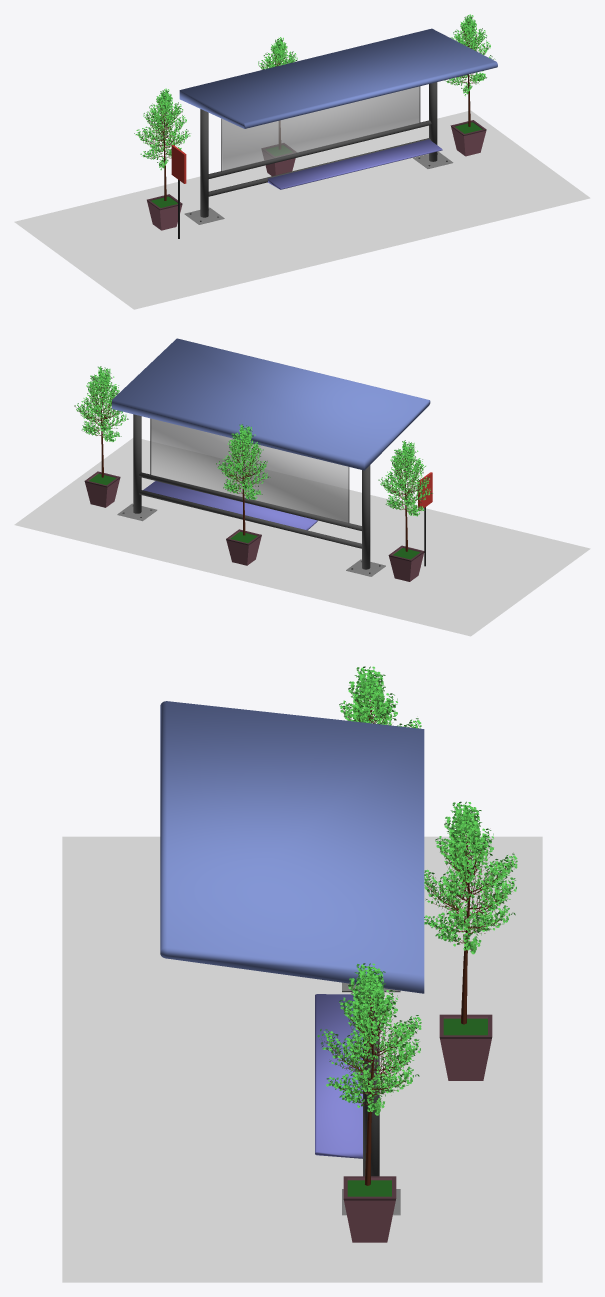
File: stationBus.fbx
The picture shows the model from 3 angles, top to bottom: view 1: azimuth 30°, elevation 25°; view 2: azimuth 150°, elevation 25°; view 3: azimuth 270°, elevation 25°; orthographic projection. The views are drawn at different scales.
Visible parts, largest first — view 1: Plane, Cube.002, Cube.004, Cylinder.012, Cube.003, leaves, leaves.001, Cube.006, Cube.005, Cube.001, Cube.007, tree (+2 smaller); view 2: Plane, Cube.002, Cube.004, Cylinder.012, leaves.002, Cube.003, leaves, leaves.001, Cube.006, Cube.007, Cube.005, Cube.001 (+3 smaller); view 3: Plane, Cube.002, leaves.001, leaves.002, Cube.003, Cube.007, Cube.006, tree.002, tree.001, leaves, Cylinder.012.
Boxes of the visible parts, x1,y1,x2,y2 form: Plane: (14, 110, 590, 309); Cube.002: (179, 28, 497, 128); Cube.004: (222, 86, 419, 171); Cylinder.012: (200, 82, 437, 217); Cube.003: (267, 139, 442, 189); leaves: (134, 88, 190, 170); leaves.001: (444, 14, 495, 96); Cube.006: (450, 120, 486, 156); Cube.005: (147, 194, 182, 230); Cube.001: (184, 151, 453, 224); Cube.007: (262, 143, 296, 176); tree: (138, 101, 183, 200); Plane: (14, 438, 590, 636); Cube.002: (112, 338, 430, 470); Cube.004: (151, 418, 348, 522); Cylinder.012: (133, 414, 370, 569); leaves.002: (216, 424, 270, 499); Cube.003: (143, 481, 317, 530); leaves: (378, 440, 432, 516); leaves.001: (74, 366, 128, 441); Cube.006: (84, 471, 120, 507); Cube.007: (226, 529, 261, 565); Cube.005: (388, 545, 424, 581); Cube.001: (117, 503, 385, 576); Plane: (62, 836, 542, 1282); Cube.002: (160, 701, 424, 993); leaves.001: (317, 963, 421, 1115); leaves.002: (424, 801, 517, 954); Cube.003: (315, 994, 362, 1158); Cube.007: (439, 1014, 492, 1080); Cube.006: (343, 1176, 396, 1242); tree.002: (425, 814, 515, 1024); tree.001: (325, 979, 416, 1185); leaves: (339, 666, 421, 728); Cylinder.012: (363, 994, 379, 1176).
Bounding box in the file's own units: 2099 × 608 × 955.
